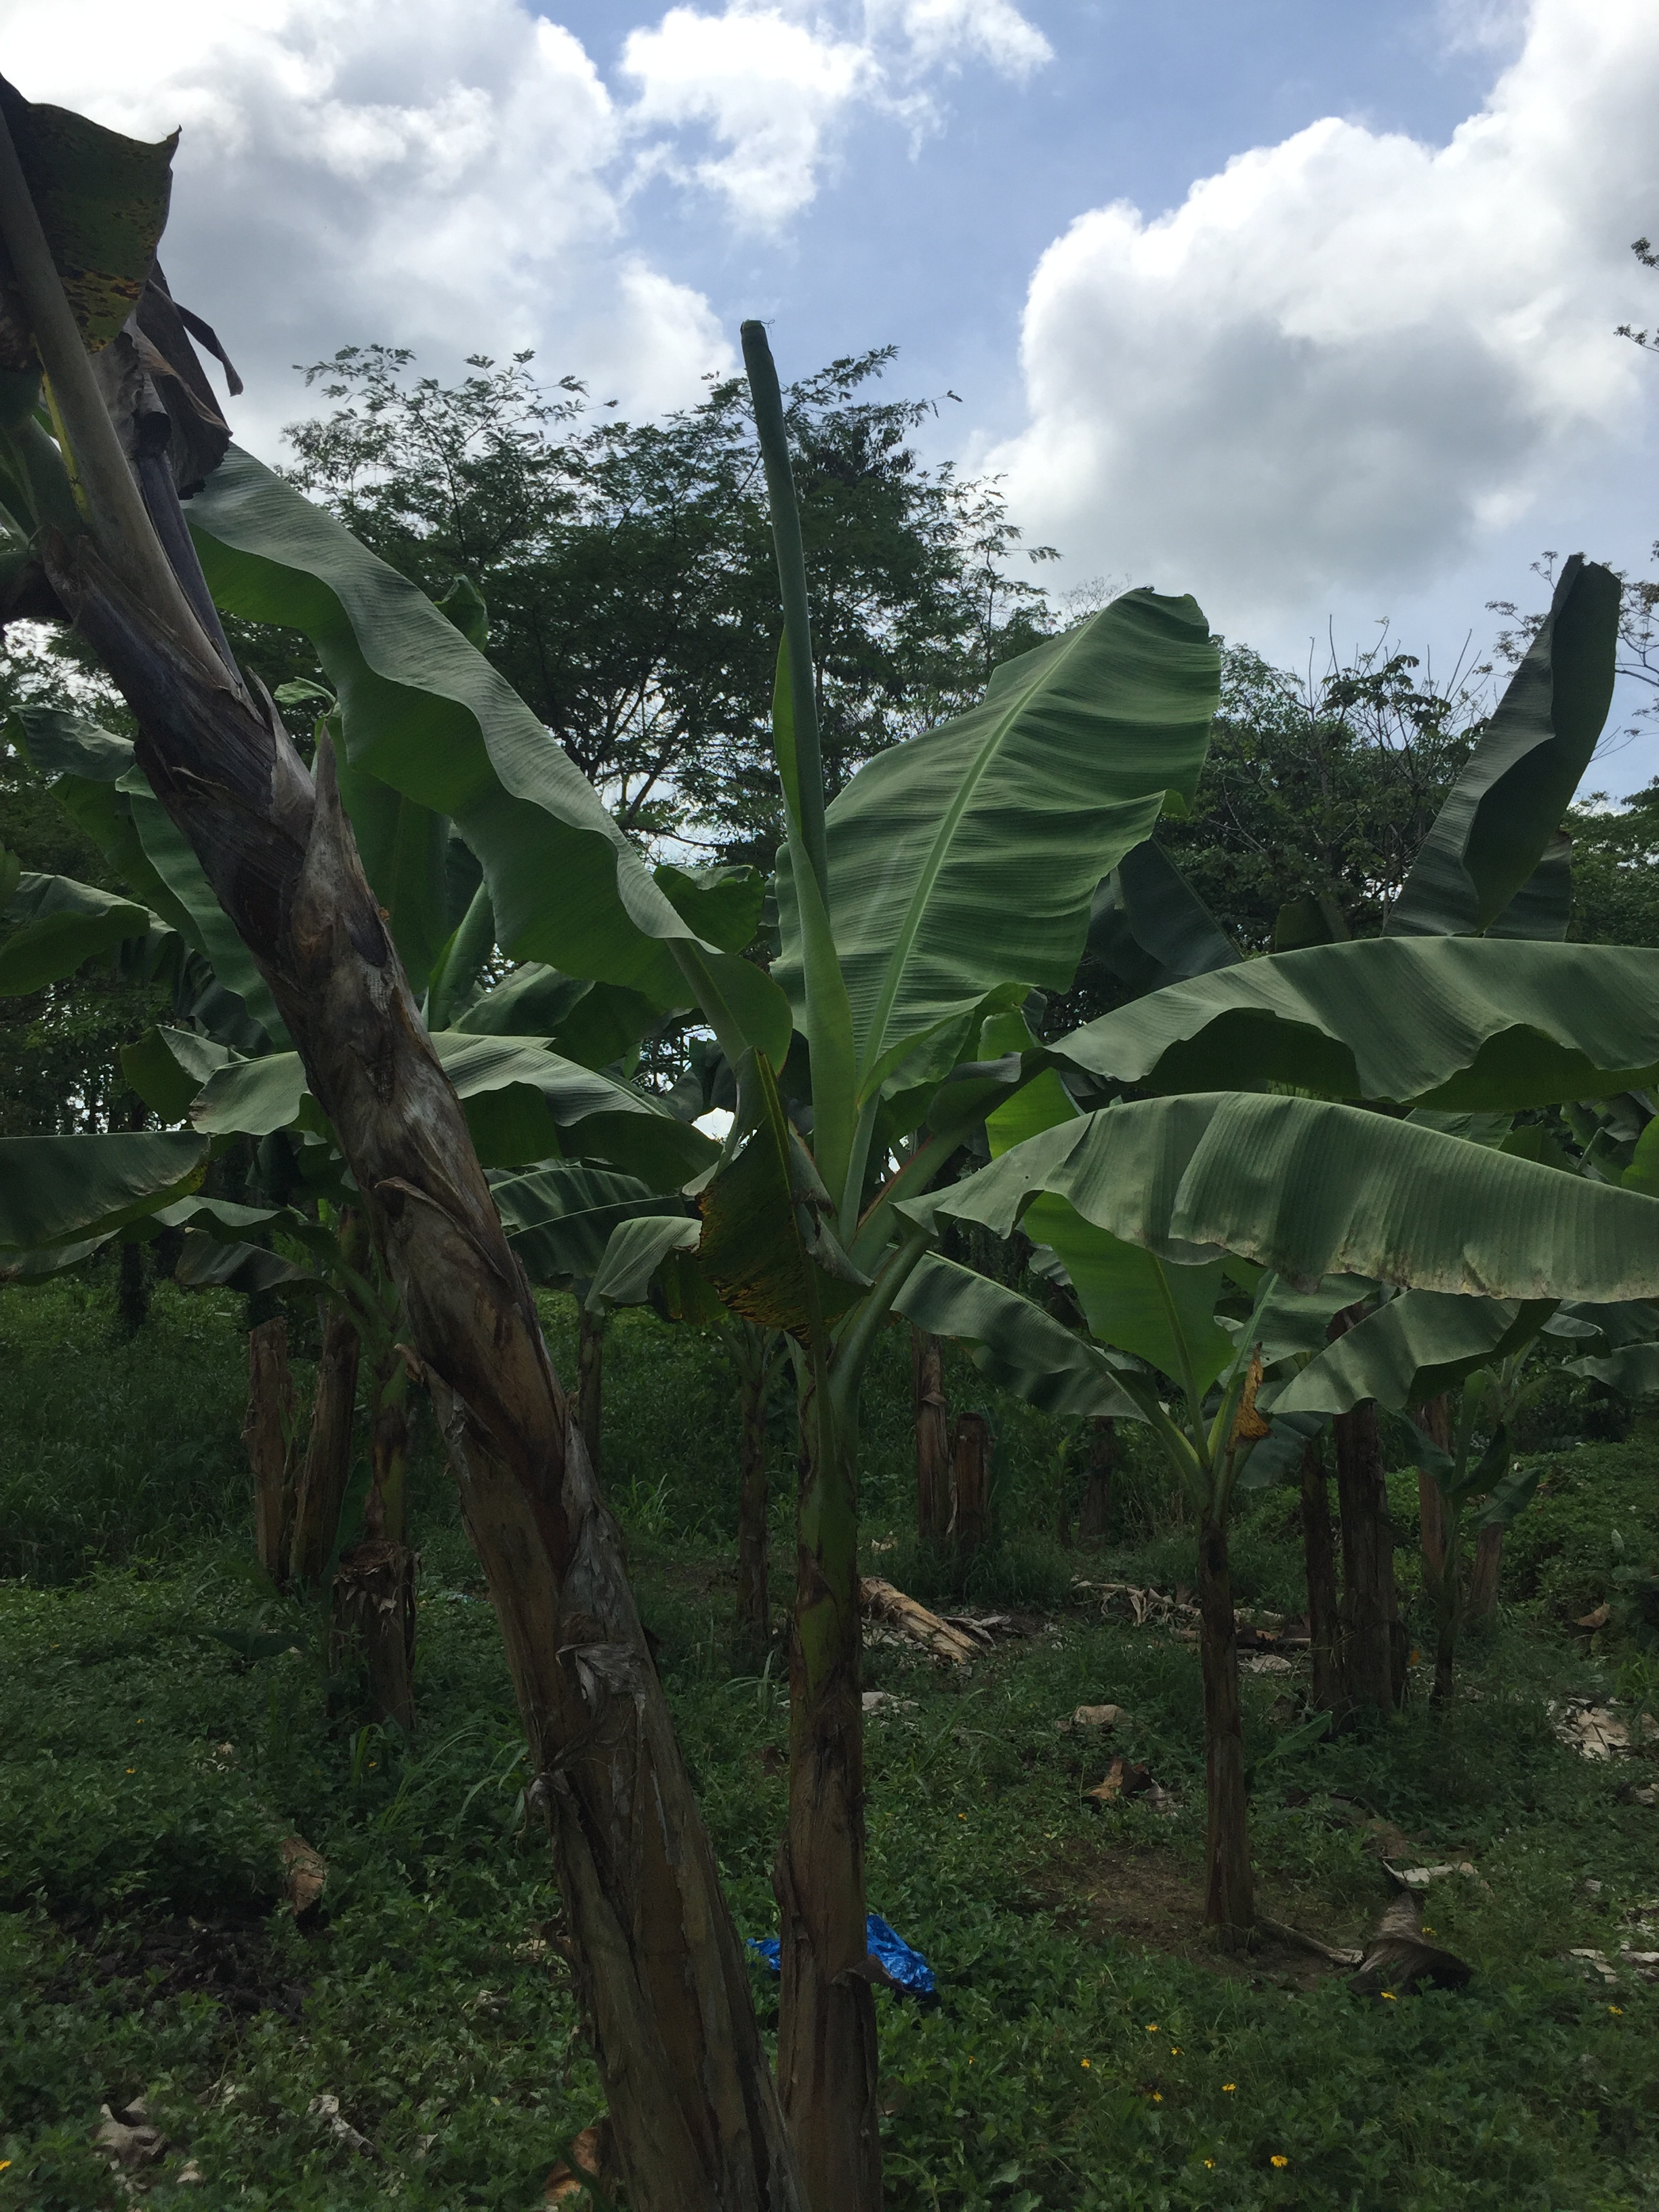candleleafs: (739, 319, 859, 1103)
